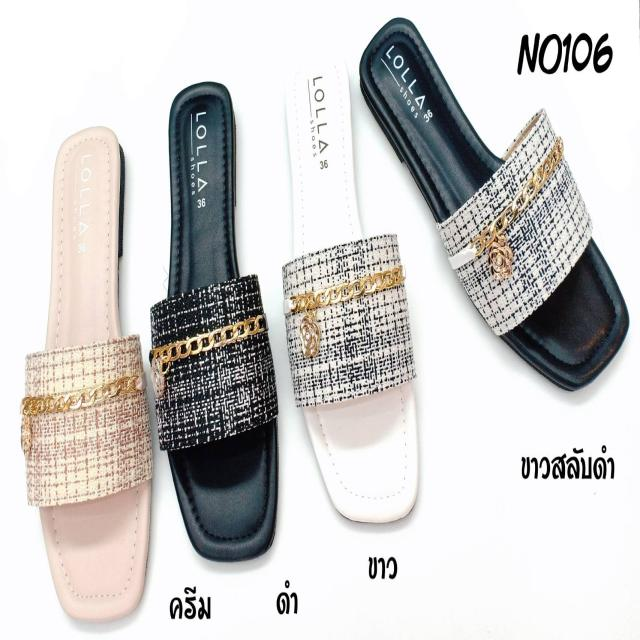black: (162, 79, 282, 560)
cream: (34, 118, 154, 626)
white: (283, 49, 425, 526)
white-black: (354, 15, 626, 389)
